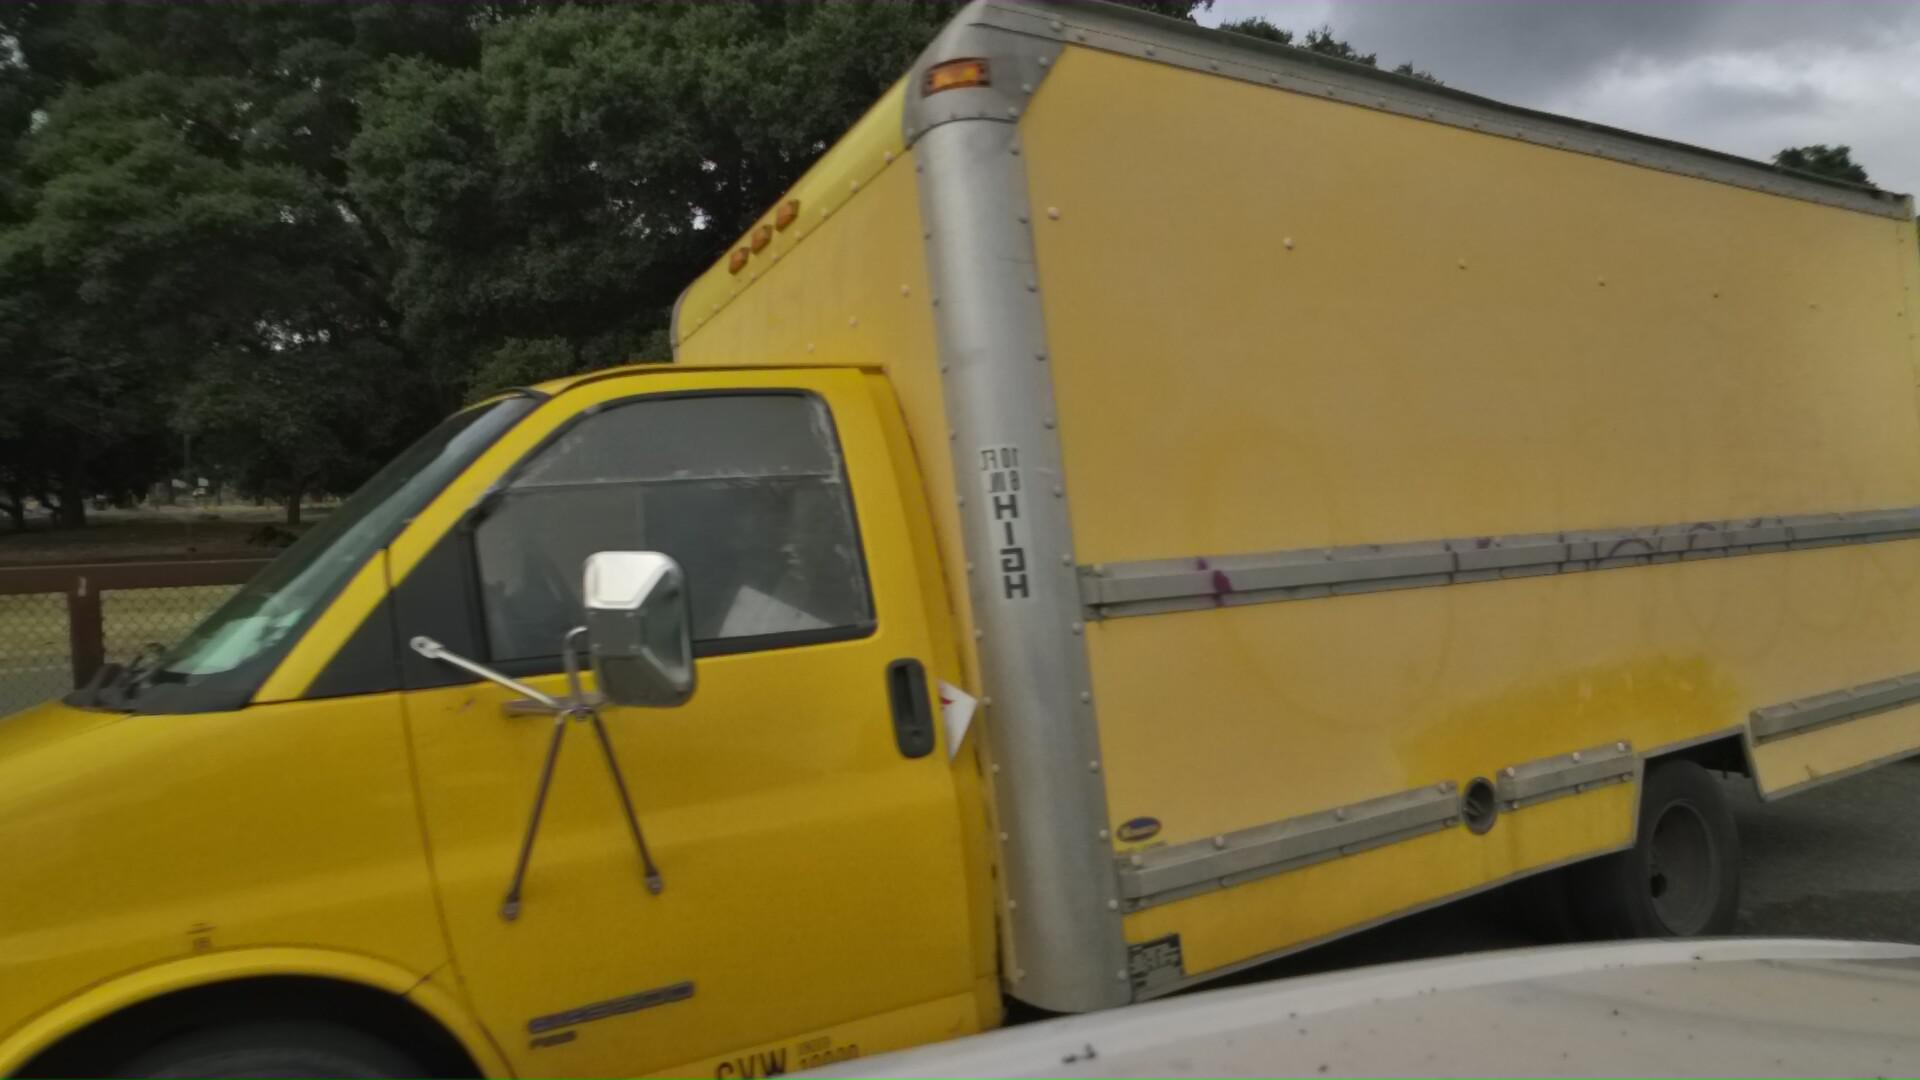car: (1685, 458, 1920, 808)
truck: (0, 0, 1920, 1080)
